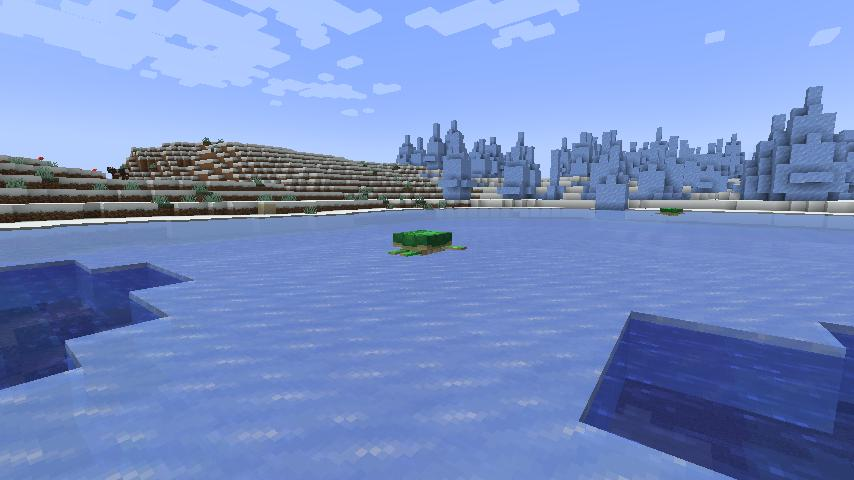turtle: (388, 227, 468, 259), (657, 206, 685, 217)
